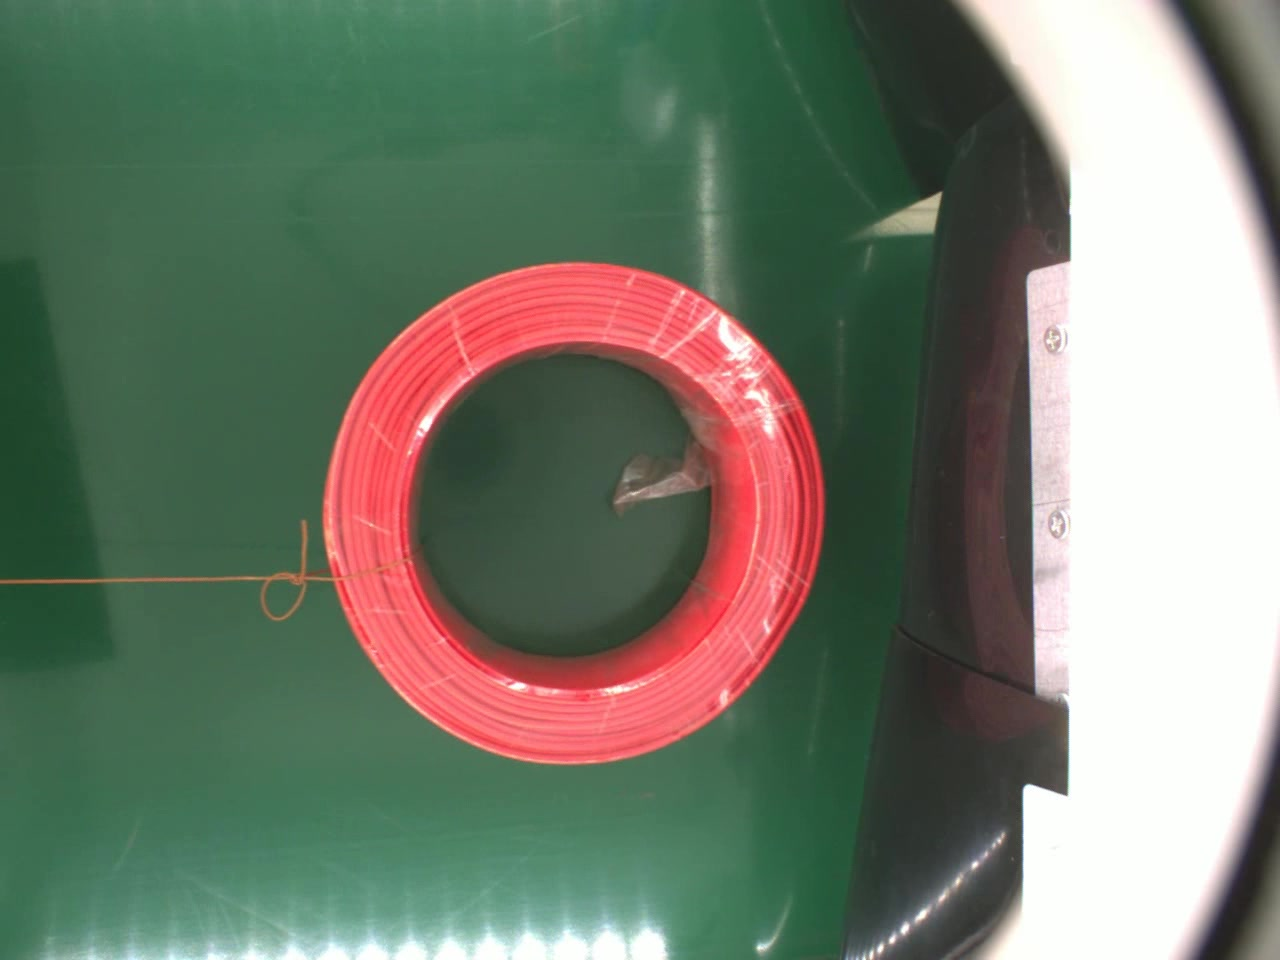red: (321, 257, 827, 771)
